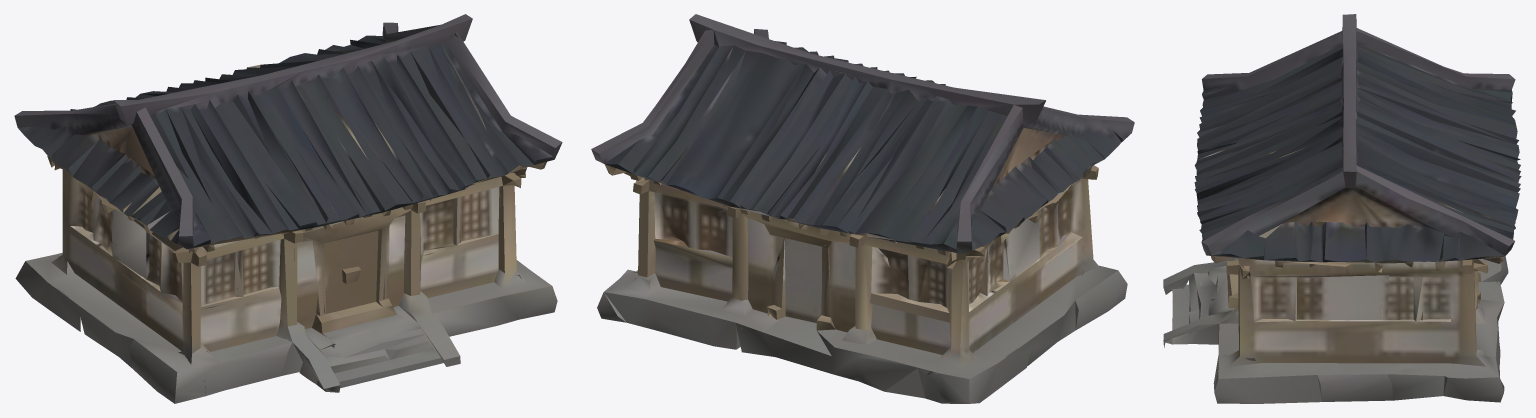
3 renders of one model, left to right at view 1: azimuth 30°, elevation 25°; view 2: azimuth 150°, elevation 25°; view 3: azimuth 270°, elevation 25°, orthographic. The views are drawn at different scales.
Parts seen in each view (by area): view 1: geometry_0; view 2: geometry_0; view 3: geometry_0.
Part boxes in pixels (x1,y1,x2,y2): geometry_0: (14, 14, 562, 403); geometry_0: (591, 14, 1134, 403); geometry_0: (1163, 14, 1521, 403).
Size of the model in its own units: 1 by 0.6163 by 0.8817.
1 material, 1 textured.
